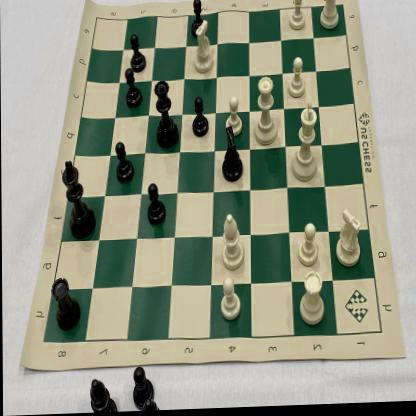black-king: (60, 156, 94, 244)
black-knight: (218, 127, 247, 186)
black-pawn: (142, 181, 168, 231), (189, 92, 212, 142), (113, 142, 135, 187), (127, 30, 148, 77), (124, 64, 145, 110), (188, 0, 206, 42)
black-queen: (152, 78, 180, 152)
black-rook: (49, 274, 82, 334)
white-bishop: (220, 211, 248, 274)
white-king: (288, 101, 322, 188)
white-knight: (334, 207, 366, 272), (190, 16, 218, 78)
white-pawn: (295, 222, 322, 272), (217, 276, 242, 326), (286, 55, 308, 104), (222, 96, 245, 138), (286, 0, 308, 33)
white-queen: (252, 72, 280, 152)
white-rook: (293, 270, 329, 334), (317, 0, 343, 35)
